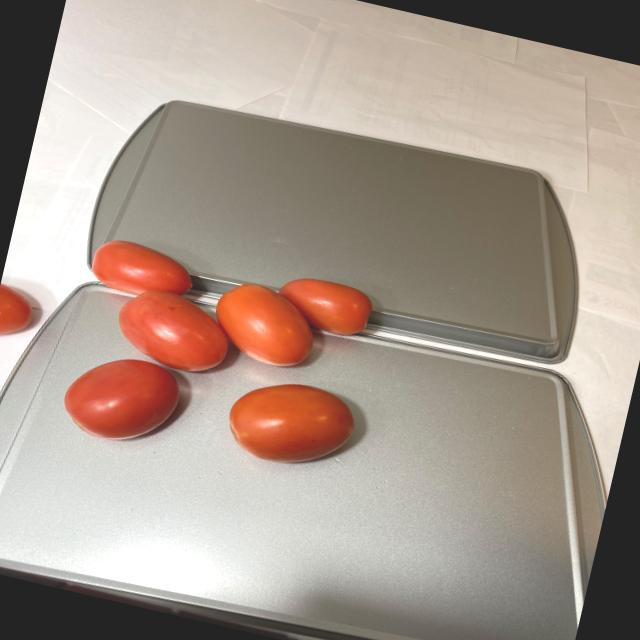tomato: (0, 211, 394, 492)
